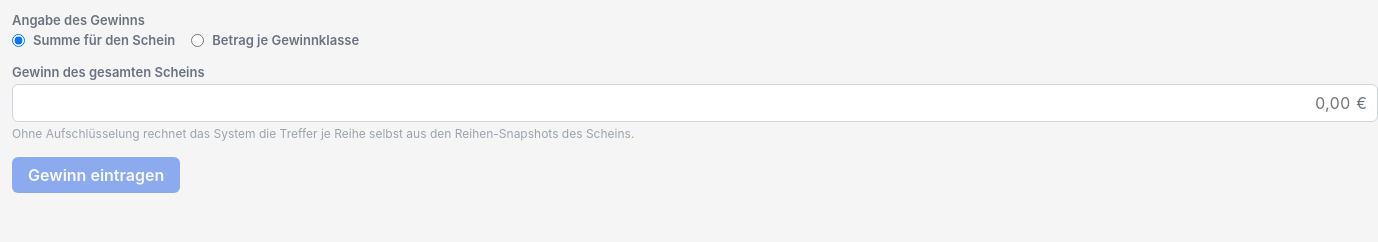
Scenario: WinningsEntry › offers only the classes rows of the ticket actually reached
Click the radio button labelled "Betrag je Gewinnklasse": [198, 40] box [191,34,204,46]
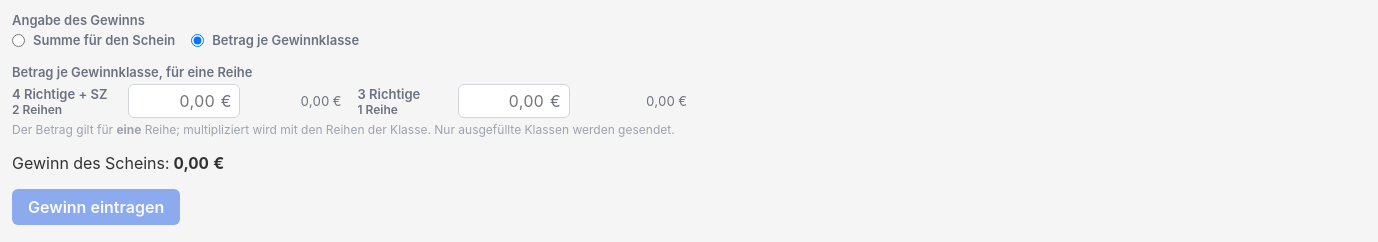
Expected: the number of fields is 2, [138,91,215,111]; [467,91,544,111]
Expected: the text "4 Richtige + SZ" is shown, [12,86,107,102]
Expected: the text "2 Reihen" is shown, [12,102,62,116]
